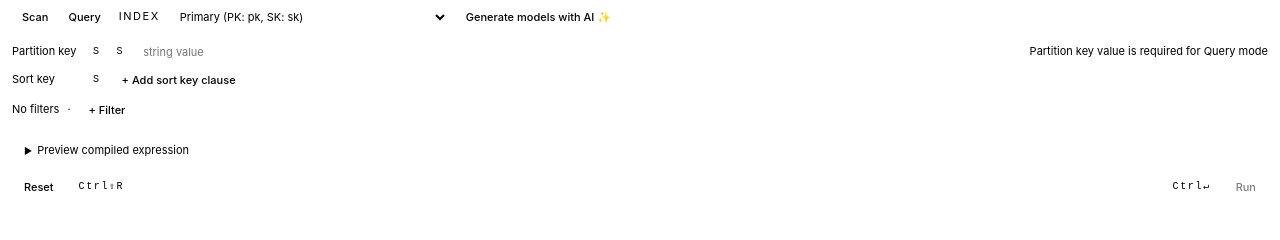
Test: QueryBuilder › Preview disclosure › shows error reason when builder state is invalid (no query in Query mode)
Click the button with test id "preview-toggle" at (113, 150), box [12, 138, 1268, 162]
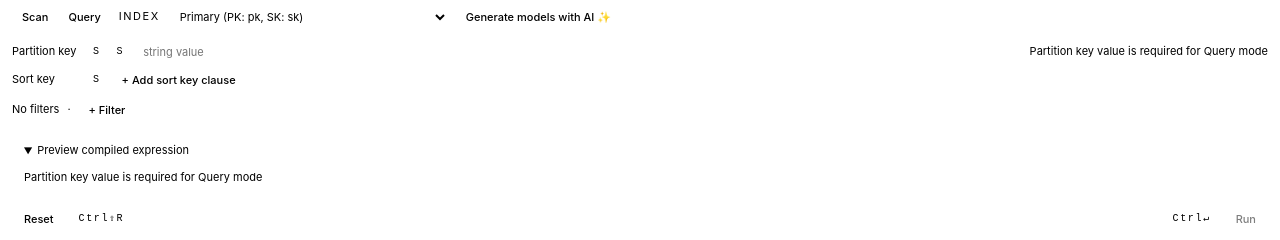
Check: the message with test id "preview-error" is shown, box [24, 170, 262, 184]
